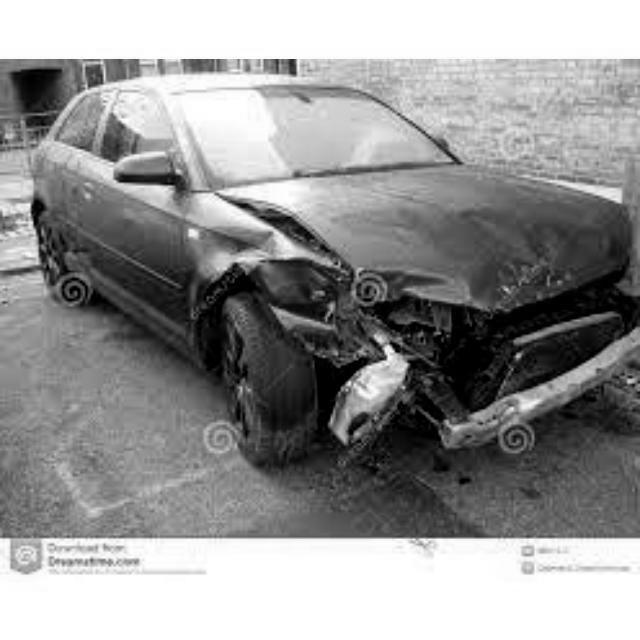bonnet-dent: (313, 161, 630, 300)
fender-dent: (194, 221, 330, 370)
front-bumper-dent: (333, 275, 637, 458)
